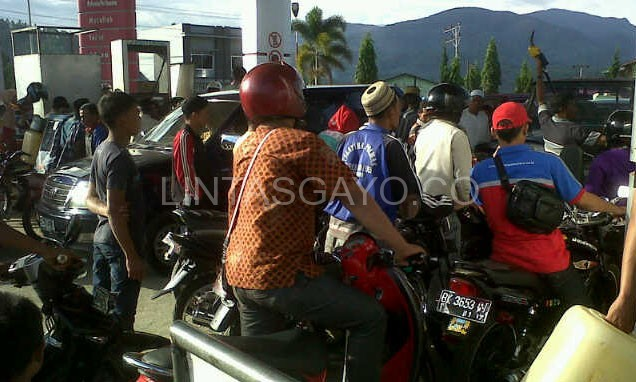plate: (441, 292, 488, 320)
